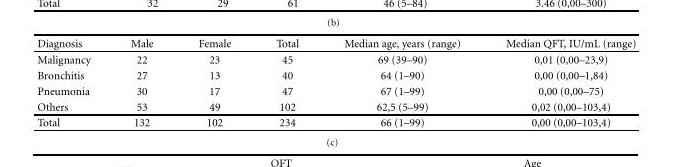table: (36, 37, 635, 128)
table column: (320, 37, 482, 128), (482, 37, 635, 128), (175, 37, 252, 128), (36, 37, 109, 128), (252, 37, 320, 128), (109, 37, 175, 128)
table column header: (36, 37, 635, 51)
table row: (36, 51, 635, 67), (36, 82, 635, 98), (36, 98, 635, 114), (36, 67, 635, 82), (36, 37, 635, 51), (36, 114, 635, 128)
